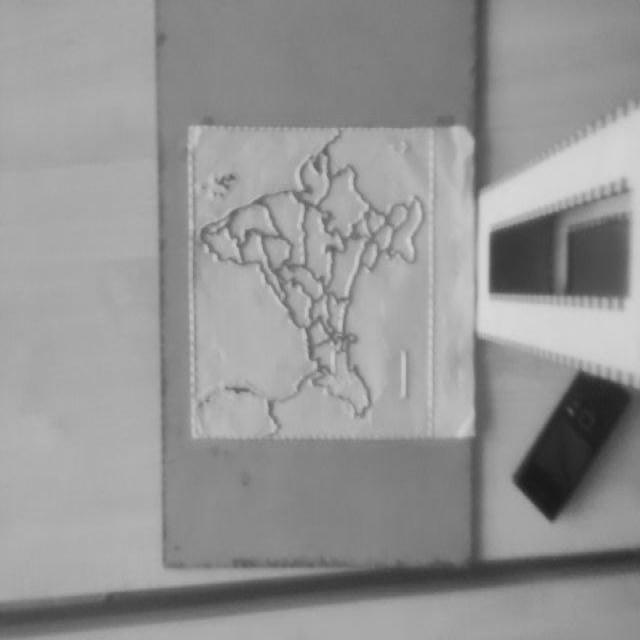map: (187, 126, 433, 440)
